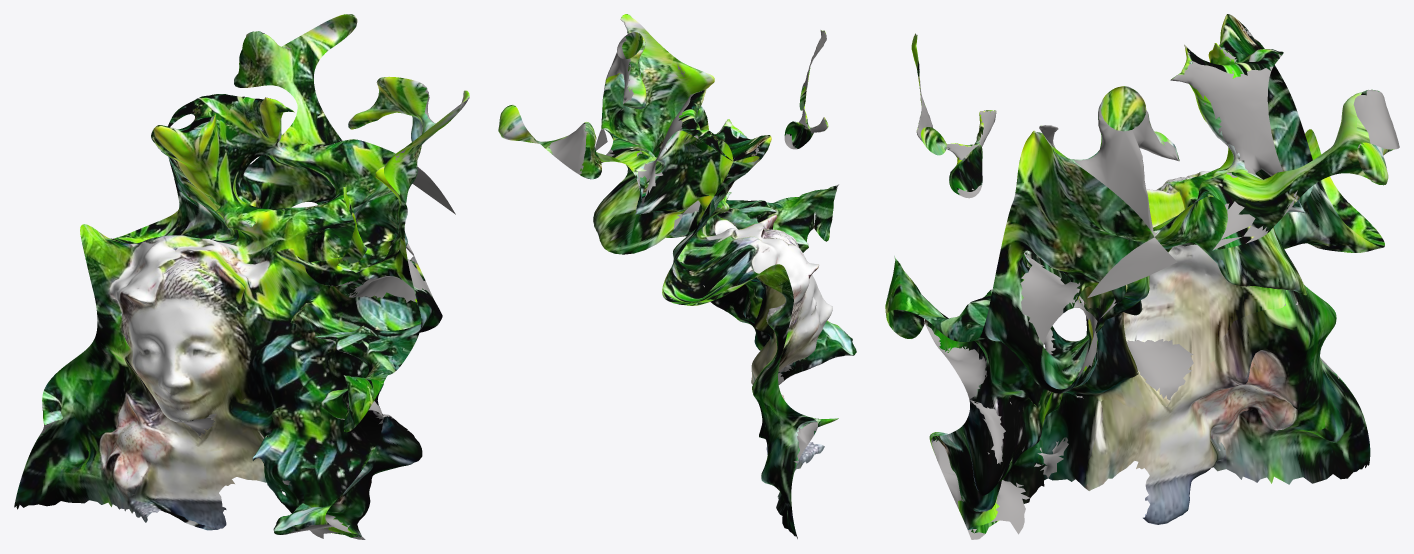
The model's file is groteKop.glb.
3 renders of one model, left to right at view 1: azimuth 30°, elevation 25°; view 2: azimuth 150°, elevation 25°; view 3: azimuth 270°, elevation 25°, orthographic. The views are drawn at different scales.
Visible parts, largest first — view 1: groteKop; view 2: groteKop; view 3: groteKop.
Boxes of the visible parts, x1=… form: groteKop: x1=14, y1=14, x2=469, y2=539; groteKop: x1=498, y1=14, x2=856, y2=538; groteKop: x1=885, y1=14, x2=1399, y2=539.
Bounding box in the file's own units: 16.53 × 19.73 × 16.69.
Materials: 1 (1 with a texture image).
